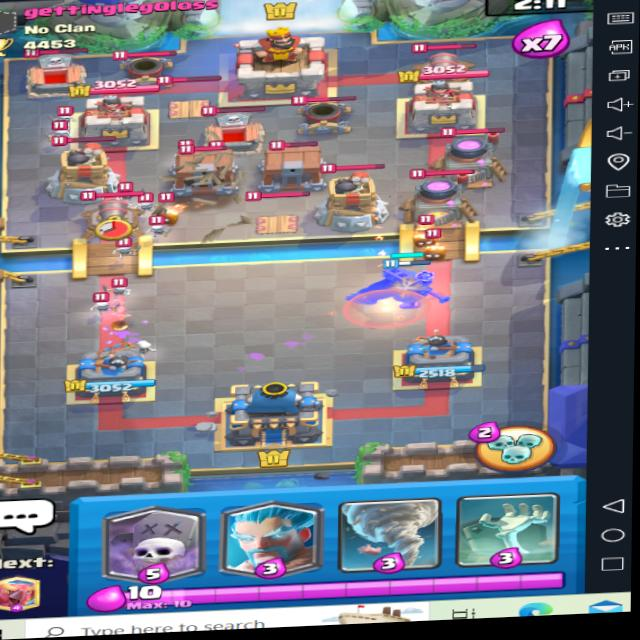bomb-tower: (310, 158, 400, 233), (48, 129, 123, 207)
cannon: (71, 185, 146, 238), (406, 38, 483, 87)
fire-spirit: (416, 232, 453, 265), (152, 198, 192, 225), (410, 223, 433, 249)
furnace: (430, 120, 519, 195), (402, 162, 484, 231)
goblin-cage: (258, 135, 329, 195), (169, 140, 245, 192)
mortar: (113, 37, 184, 89), (289, 90, 355, 139)
skeleton: (89, 292, 124, 327), (107, 231, 141, 259), (109, 238, 140, 268), (40, 118, 74, 142), (107, 274, 140, 298), (143, 215, 174, 240), (126, 191, 156, 215)
tesla-closed: (148, 69, 226, 123), (242, 187, 312, 236)
tombstone: (15, 35, 101, 98), (197, 102, 272, 156)
